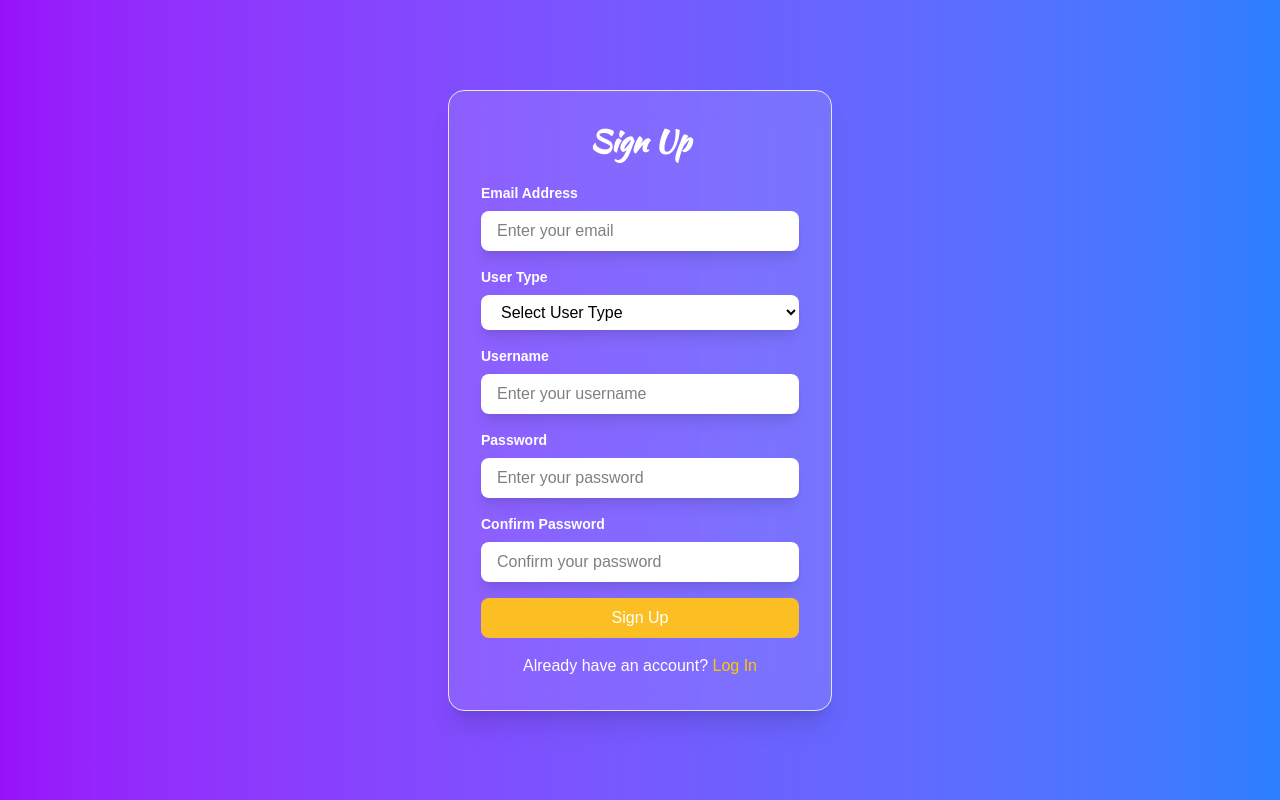
Scenario: SignUp Form › shows validation error for short username
The image size is (1280, 800).
In the field with id "email": (640, 231) [481, 211, 799, 251], type "test@example.com"
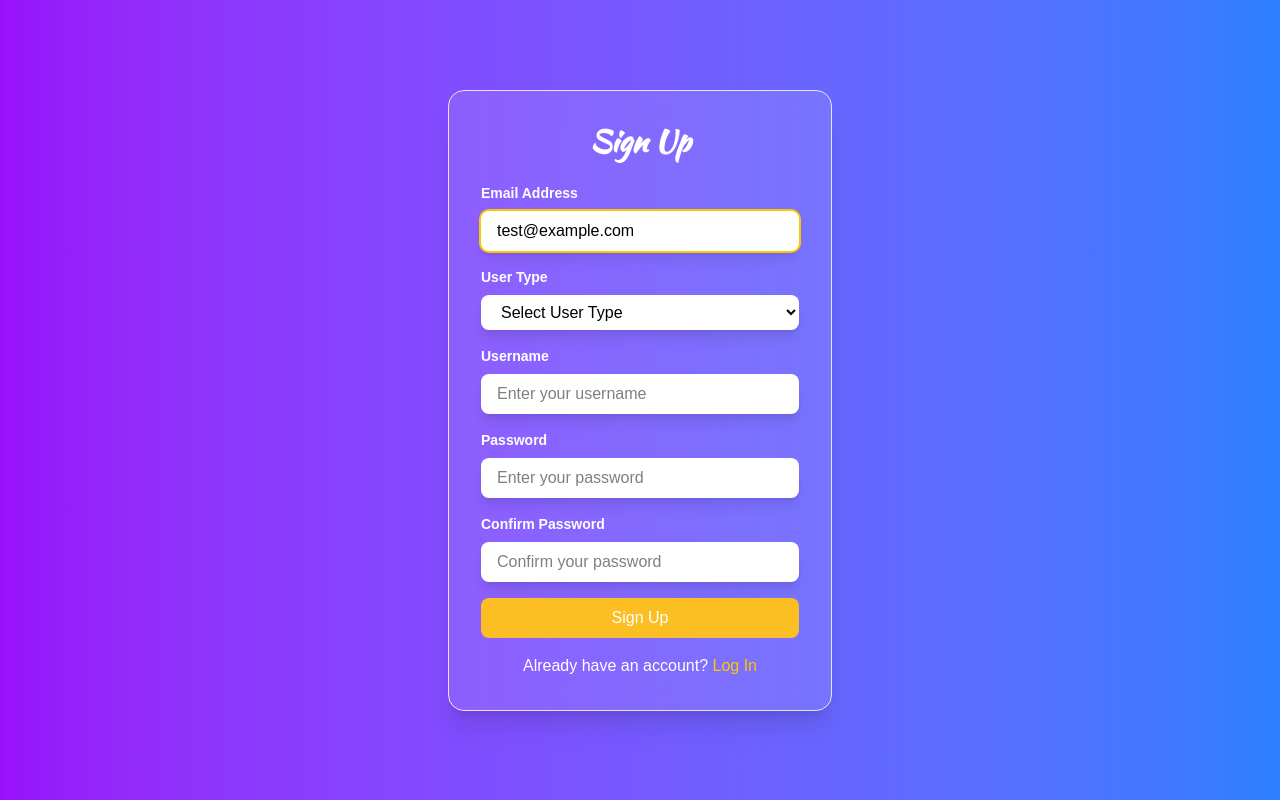
In the field with id "username": (640, 394) [481, 374, 799, 414], type "ab"
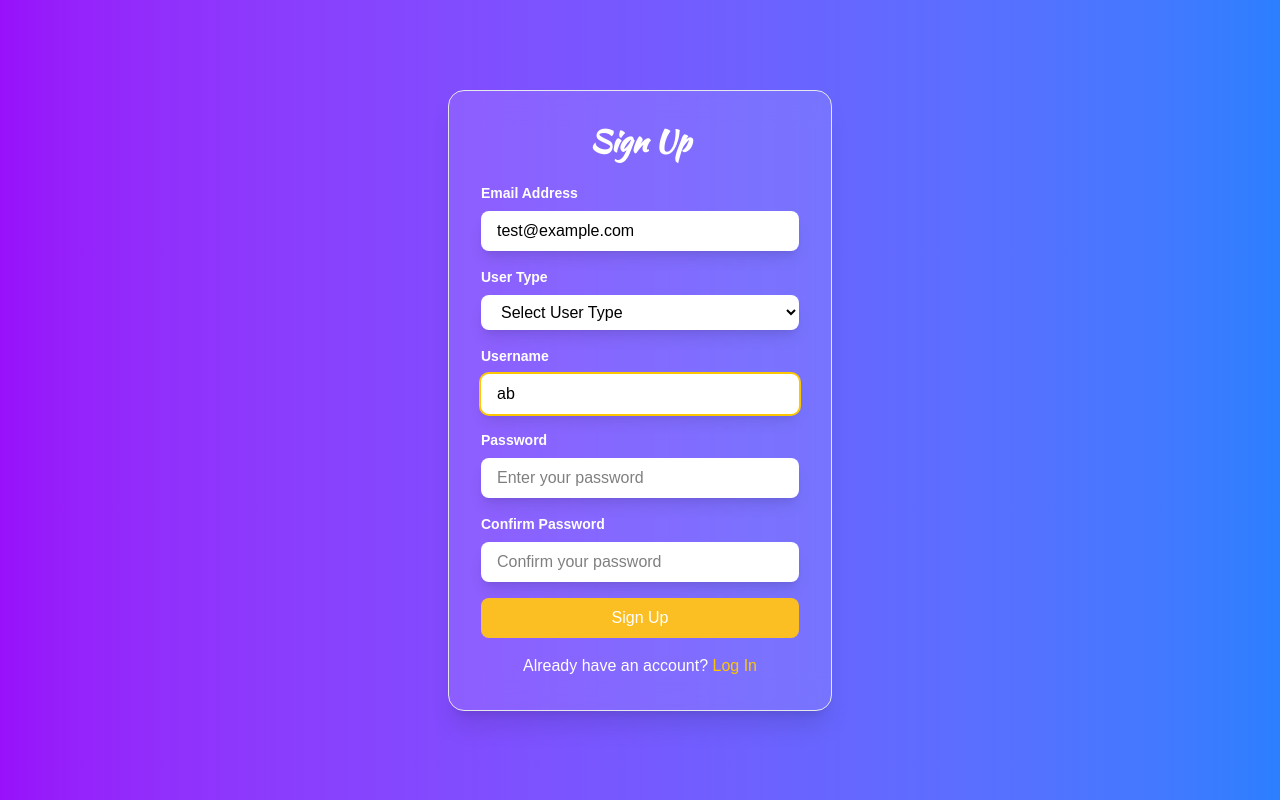
Select "Brand" in the dropdown with id "role": (640, 313) [481, 295, 799, 330]
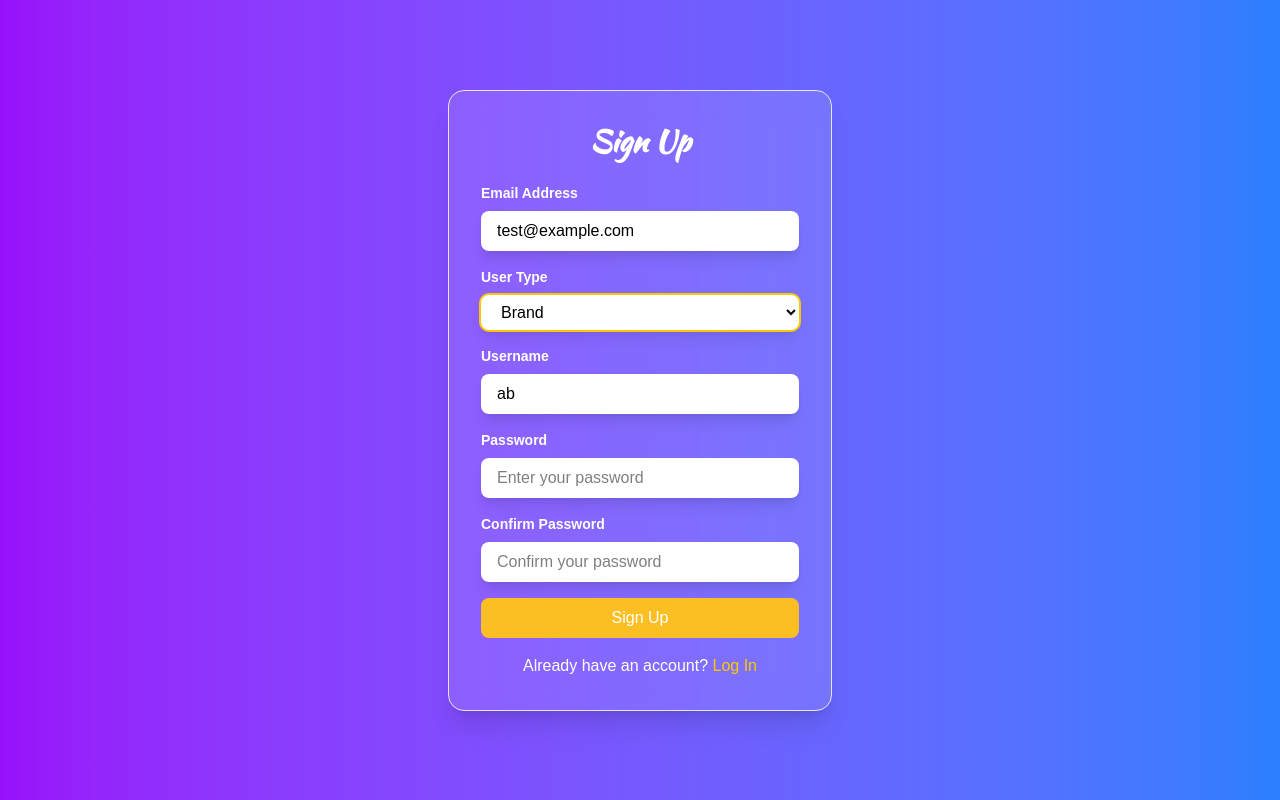
In the password field labelled "Password": (640, 478) [481, 458, 799, 498], type "password123"
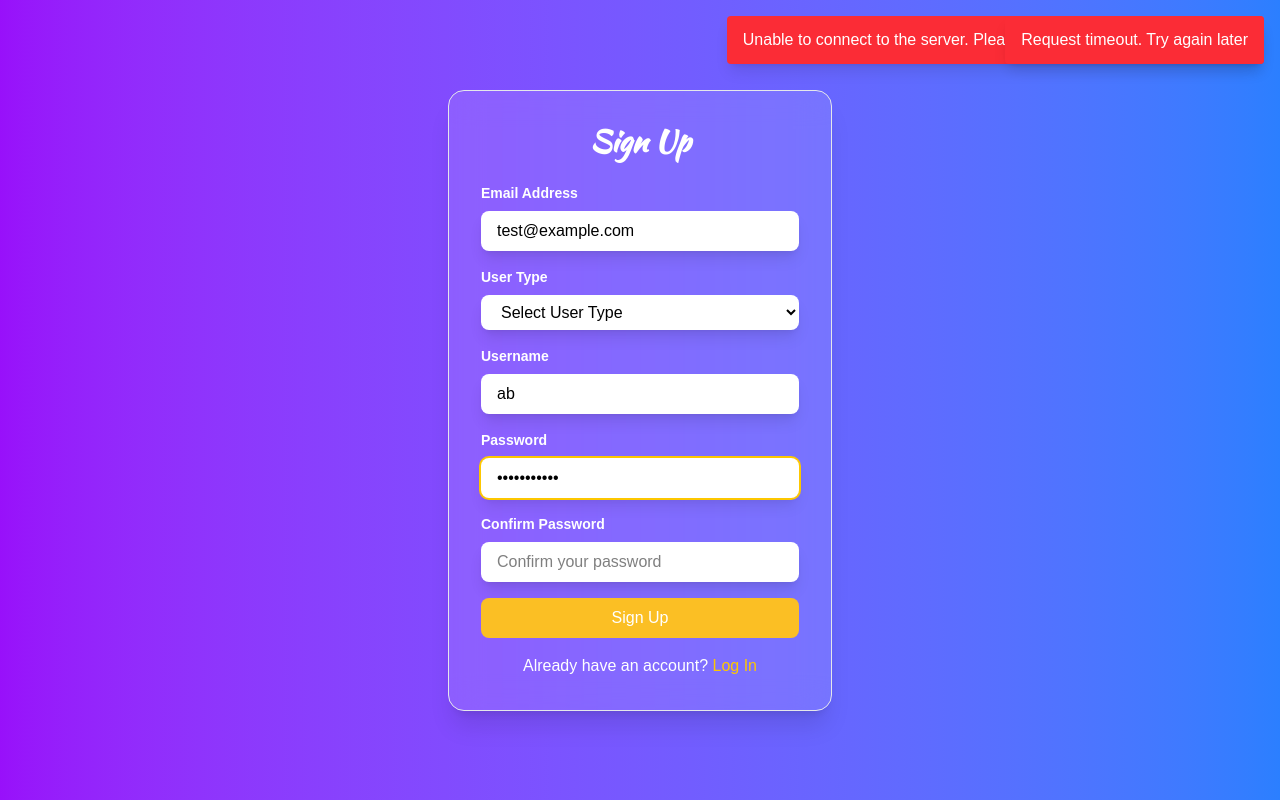
In the password field with id "confirmPassword": (640, 562) [481, 542, 799, 582], type "password123"
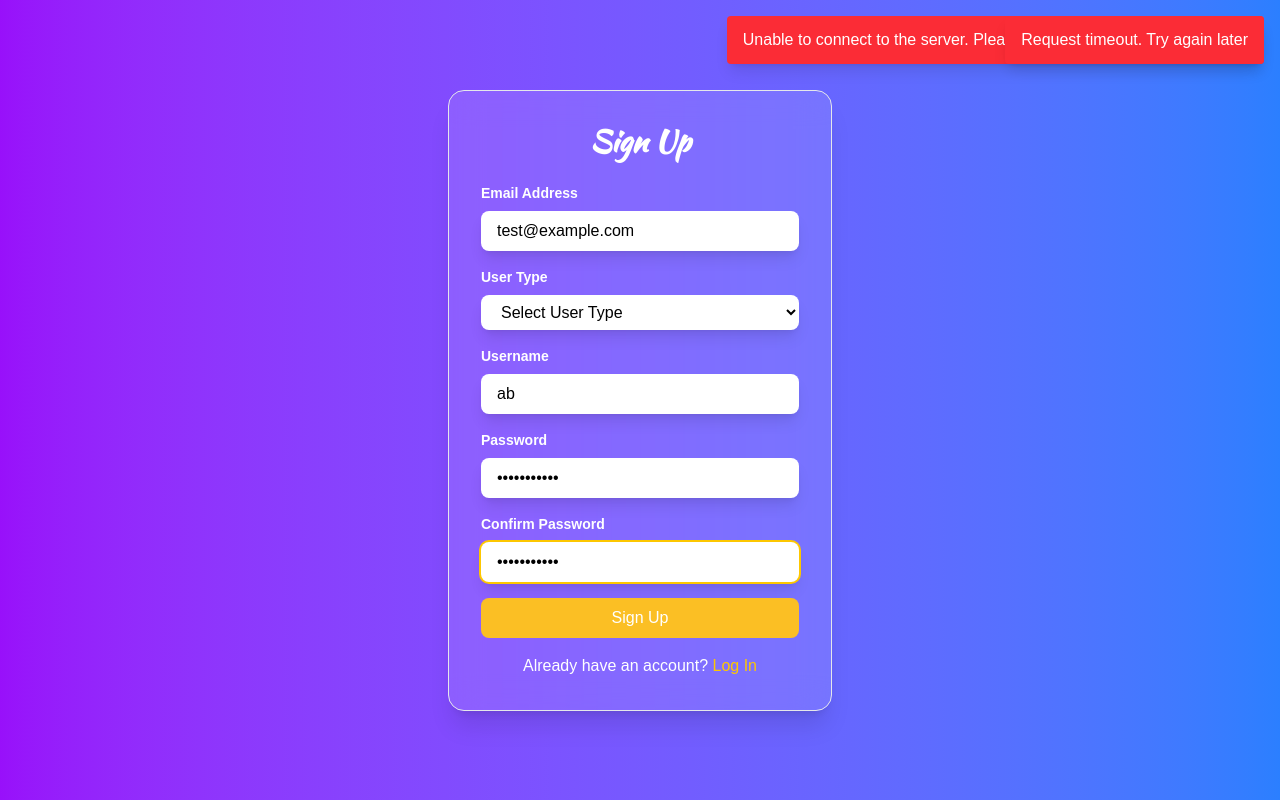
Click the submit button: (640, 618) [481, 598, 799, 638]
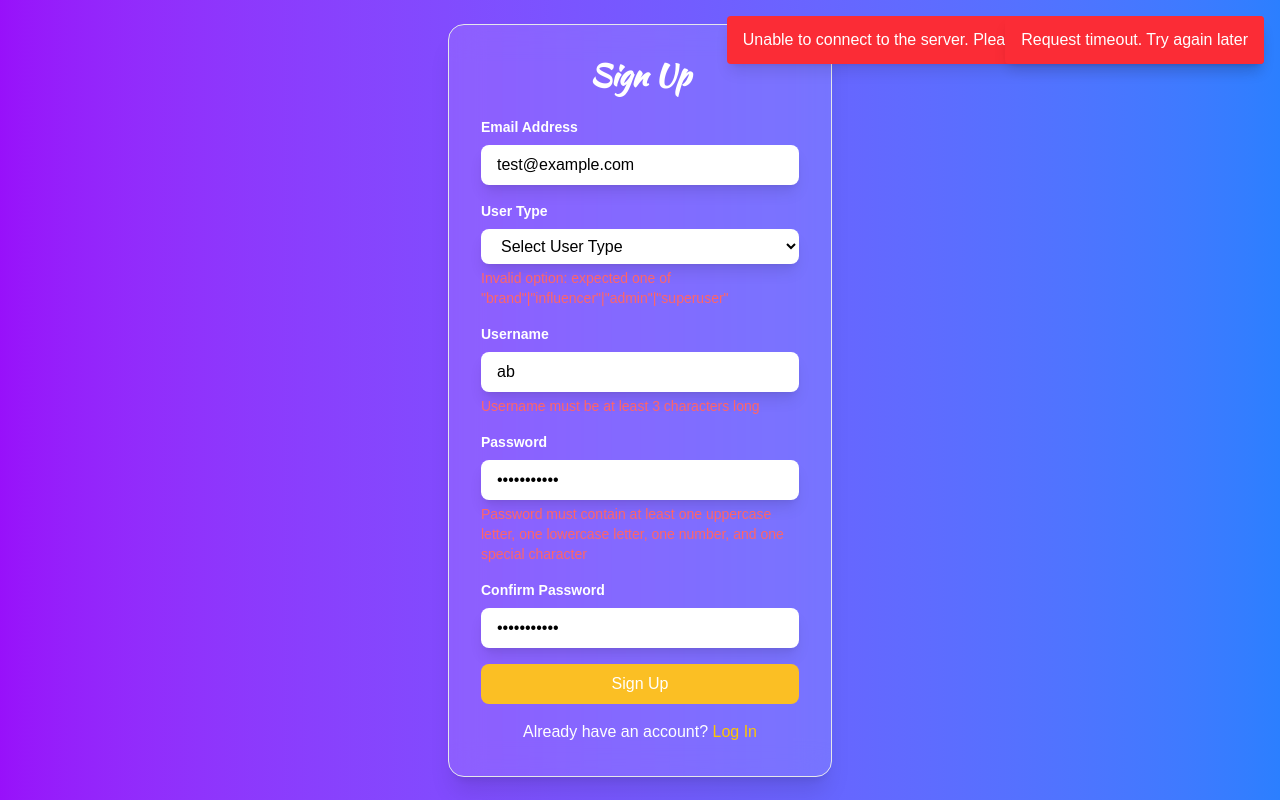
Check: the text "Username must be at least 3 characters" is shown, box [481, 398, 760, 414]
